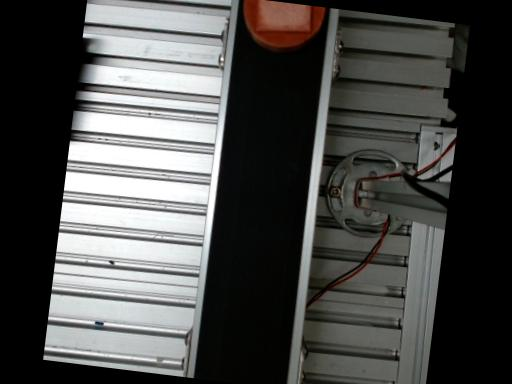Brown_Waper: (242, 0, 324, 51)
Not_Square: (253, 0, 310, 32)
